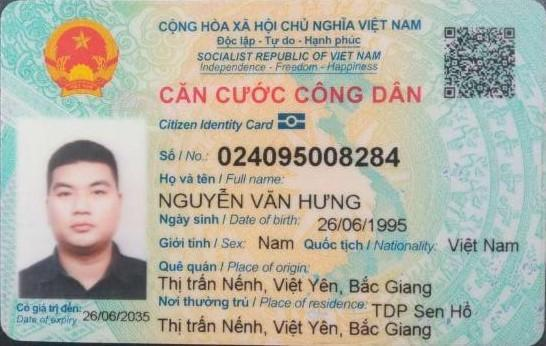ID: (213, 141, 407, 174)
birth: (313, 212, 408, 236)
name: (151, 187, 366, 213)
place: (152, 273, 440, 298)
residence: (155, 311, 435, 343), (371, 300, 479, 321)
